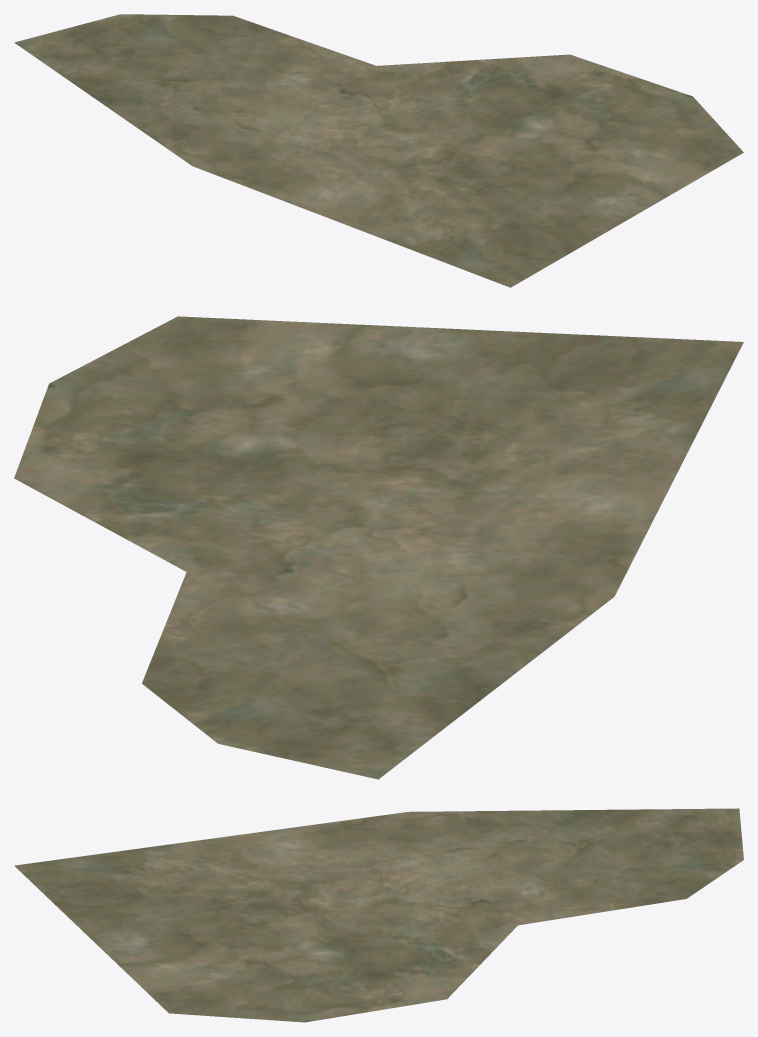
Rendered from OVERHILL_A_01_GROUND_25.fbx.
3 renders of one model, top to bottom at view 1: azimuth 30°, elevation 25°; view 2: azimuth 150°, elevation 25°; view 3: azimuth 270°, elevation 25°, orthographic. The views are drawn at different scales.
Visible parts, largest first — view 1: OVERHILL_A_01_GROUND_25; view 2: OVERHILL_A_01_GROUND_25; view 3: OVERHILL_A_01_GROUND_25.
Part boxes in pixels (x1,y1,x2,y2): OVERHILL_A_01_GROUND_25: (14,14,743,287); OVERHILL_A_01_GROUND_25: (14,316,743,779); OVERHILL_A_01_GROUND_25: (14,808,743,1022).
Bounding box in the file's own units: 17707 × 0.00416 × 25524.
1 material, 1 textured.
